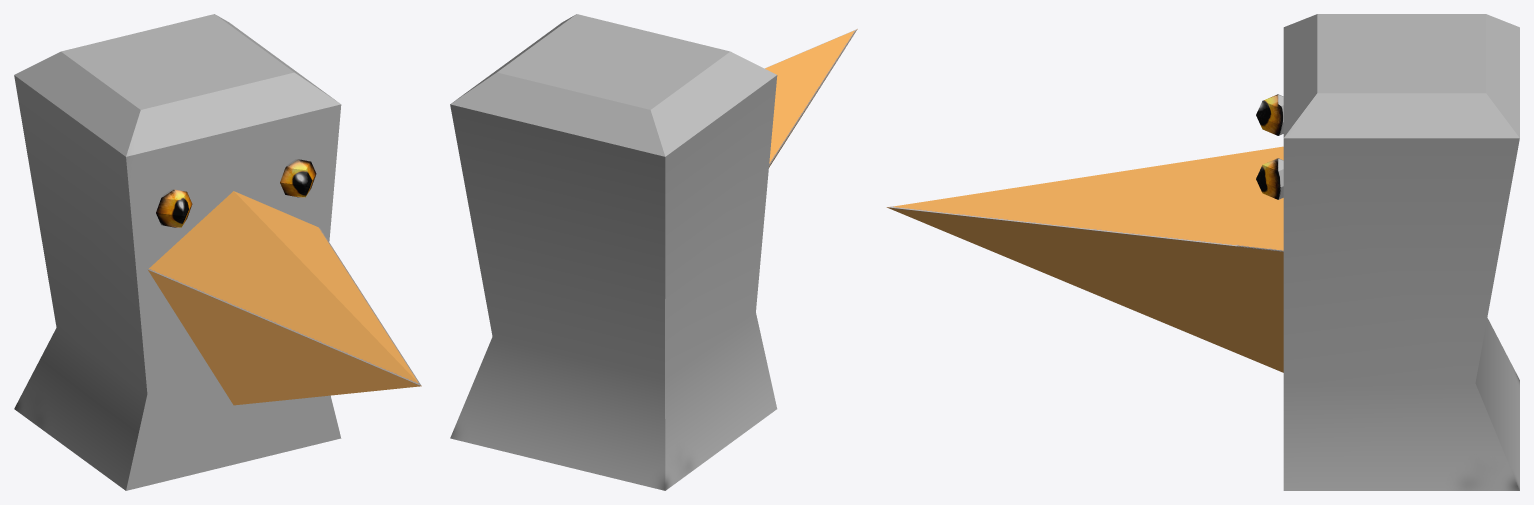
File: Pelicano_cabeza (1).fbx
The picture shows the model from 3 angles, left to right: view 1: azimuth 30°, elevation 25°; view 2: azimuth 150°, elevation 25°; view 3: azimuth 270°, elevation 25°; orthographic projection. The views are drawn at different scales.
Parts seen in each view (by area): view 1: Pelicano_Cabeza; view 2: Pelicano_Cabeza; view 3: Pelicano_Cabeza.
Part boxes in pixels (x1,y1,x2,y2): Pelicano_Cabeza: [14, 14, 421, 490]; Pelicano_Cabeza: [450, 14, 857, 490]; Pelicano_Cabeza: [886, 14, 1519, 490].
Size of the model in its own units: 2.4 by 3.85 by 5.79.
